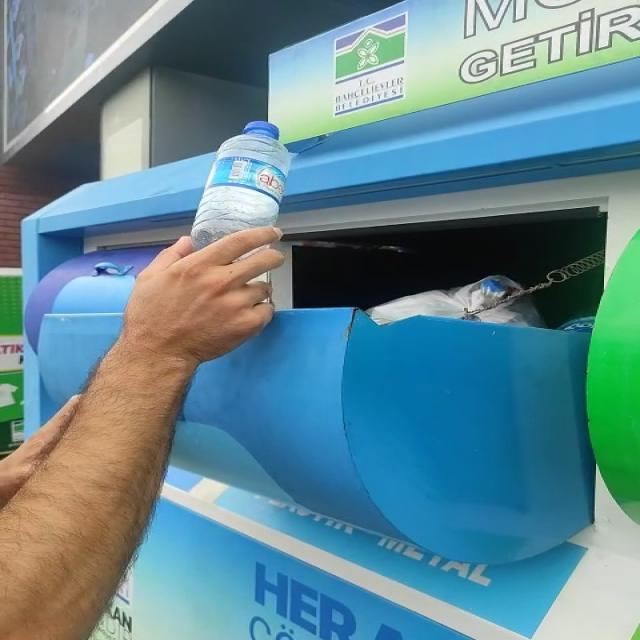Plastic: (191, 121, 291, 249)
